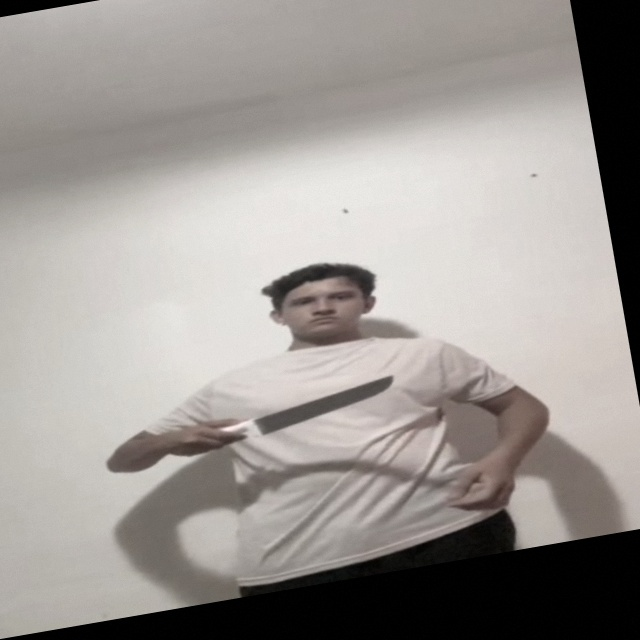Sharp-Object: (245, 376, 400, 433)
